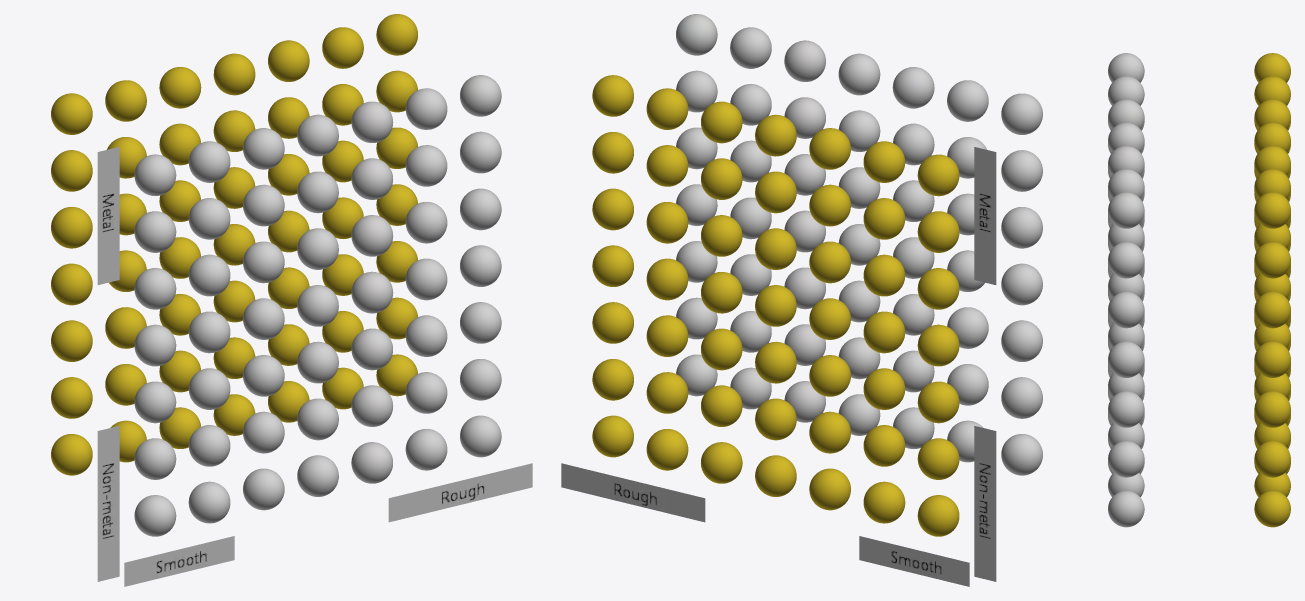
The model's file is materiales.glb.
3 views of the same model, side by side, from view 1: azimuth 30°, elevation 25°; view 2: azimuth 150°, elevation 25°; view 3: azimuth 270°, elevation 25° (orthographic). The views are drawn at different scales.
Parts seen in each view (by area): view 1: Spheres; view 2: Spheres; view 3: Spheres.
Boxes of the visible parts, x1,y1,x2,y2 form: Spheres: (51, 14, 532, 586); Spheres: (561, 14, 1042, 586); Spheres: (1108, 53, 1290, 527).
Size of the model in its own units: 9.62 by 9.33 by 4.
Materials: 1 (1 with a texture image).
